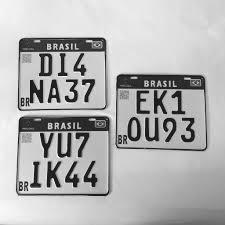placa_mercosul: (16, 115, 110, 195), (114, 75, 206, 150), (19, 38, 111, 111)
